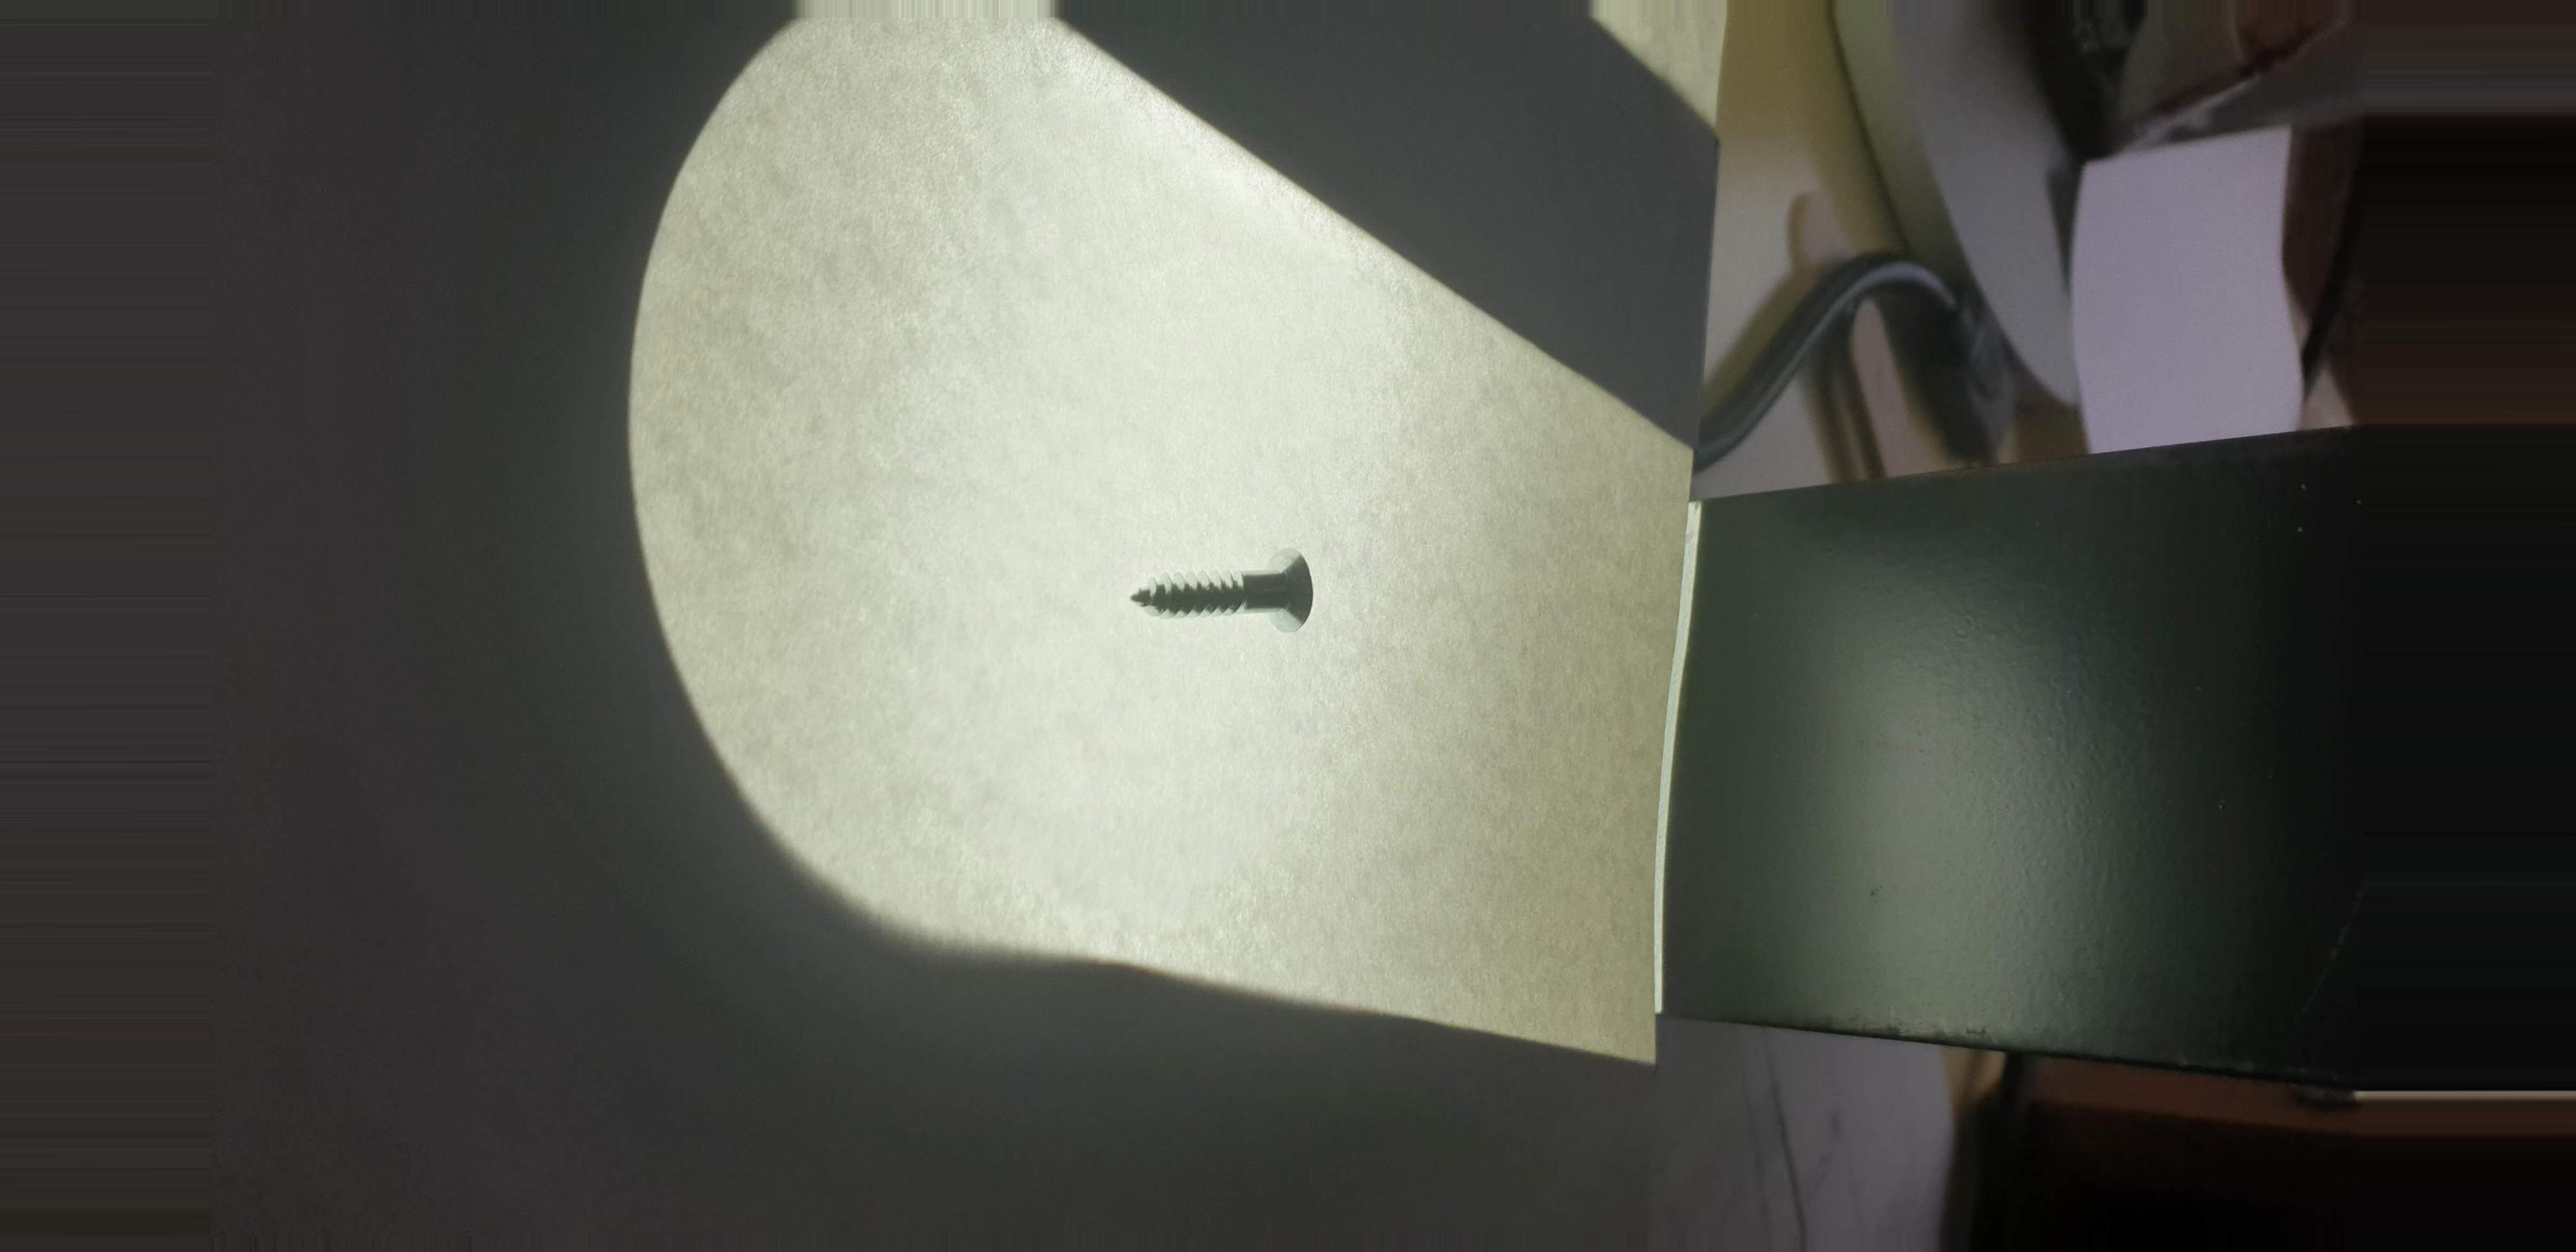S005: (1091, 522, 1364, 662)
